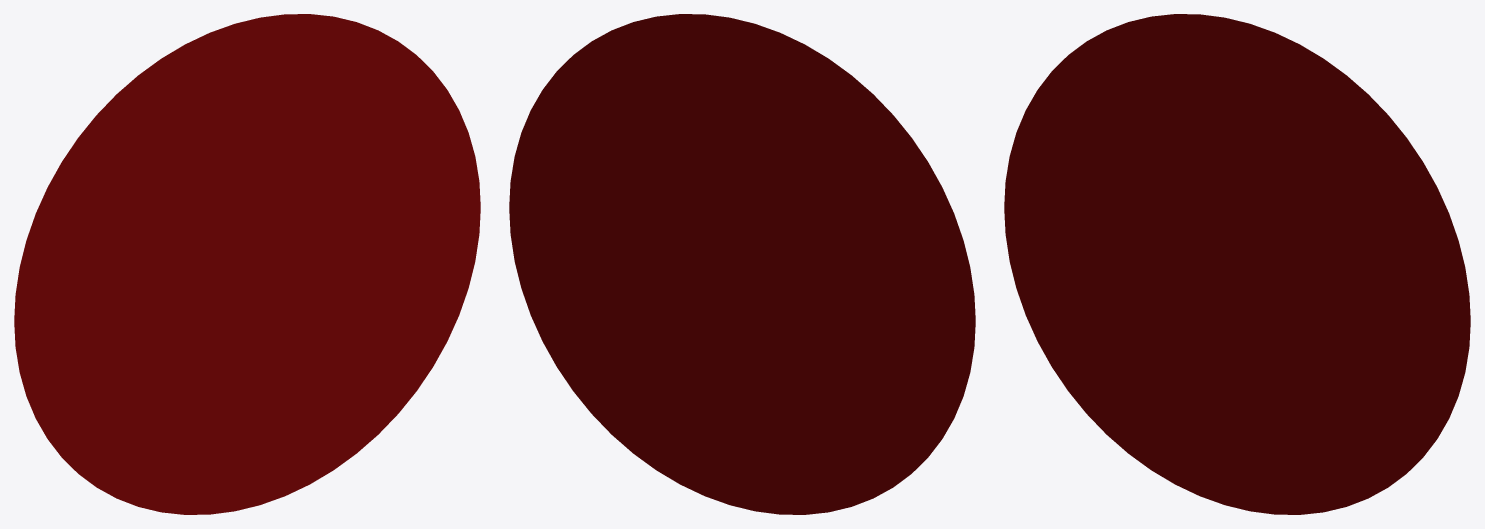
The model's file is port_ShortingPin.obj.
The picture shows the model from 3 angles, left to right: view 1: azimuth 30°, elevation 25°; view 2: azimuth 150°, elevation 25°; view 3: azimuth 330°, elevation 25°; orthographic projection.
Bounding box in the file's own units: 10.78 × 10.76 × 0.
